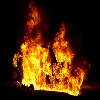fire: (12, 1, 87, 96)
